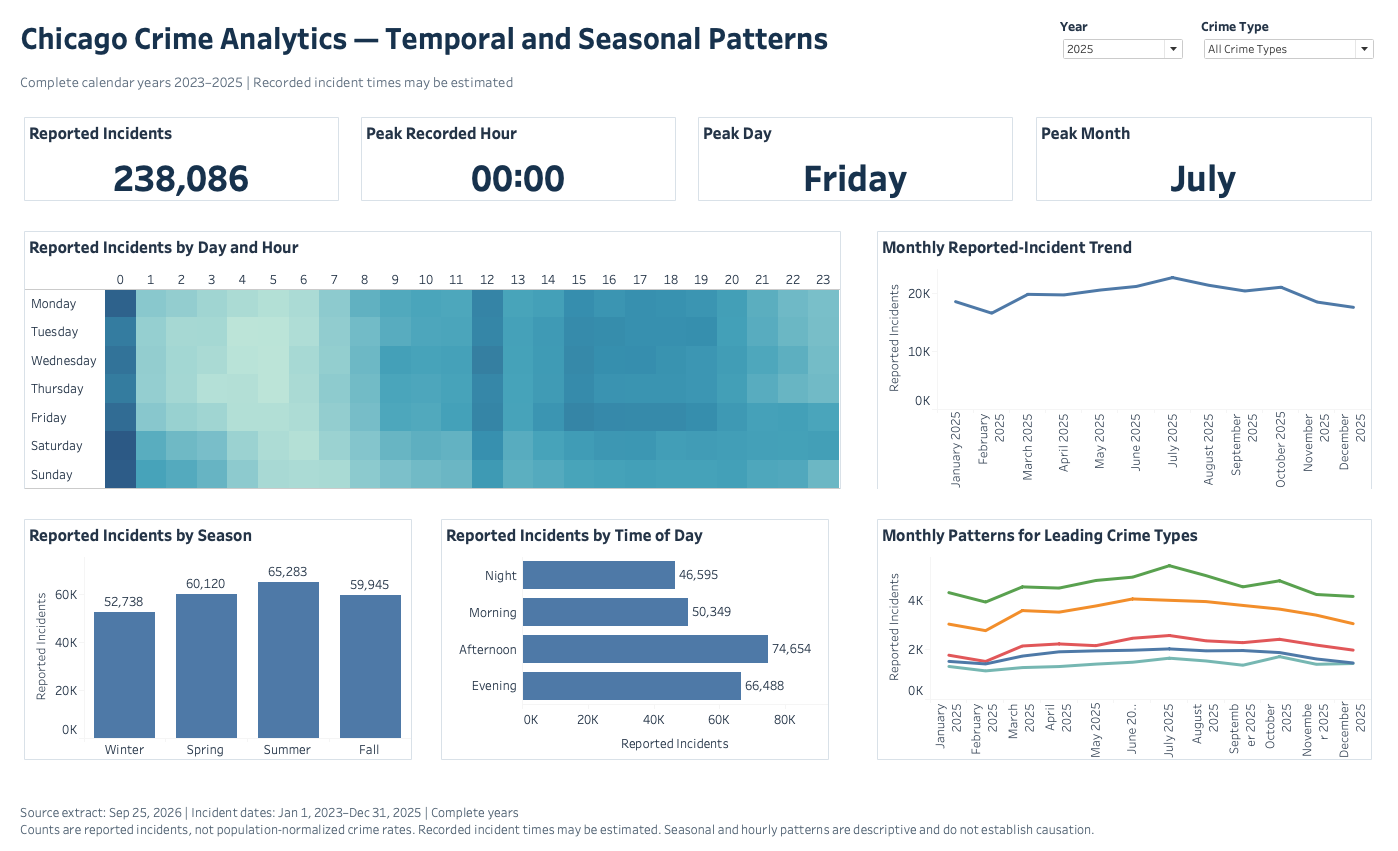

The dashboard page shown, as its layout file describes it:
{"tool":"tableau","page":{"name":"Temporal and Seasonal Patterns","canvas":[1360,850],"ordinal":2},"visuals":[{"type":"title","box":[24.5,10.2,979.2,61.2]},{"type":"parameter","param":"[Parameters].[pSelectedYear]","box":[1033.6,18.7,122.4,44.2]},{"type":"parameter","param":"[Parameters].[pCrimeType]","box":[1169.6,18.7,170,44.2]},{"type":"text","box":[24.5,66.3,979.2,30.6]},{"type":"worksheet","title":"P3 KPI Total Incidents","mark":"Text","box":[24.5,110.5,316.9,93.5]},{"type":"worksheet","title":"P3 KPI Peak Hour","mark":"Text","box":[350.9,110.5,316.9,93.5]},{"type":"worksheet","title":"P3 KPI Peak Day","mark":"Text","box":[677.3,110.5,316.9,93.5]},{"type":"worksheet","title":"P3 KPI Peak Month","mark":"Text","box":[1003.7,110.5,337.3,93.5]},{"type":"worksheet","title":"P3 Day-Hour Heatmap","mark":"Square","rows":["day_of_week"],"cols":["hour_of_day"],"box":[24.5,221,802.4,263.5]},{"type":"worksheet","title":"P3 Monthly Crime Trend","mark":"Line","rows":["reported_incident_count"],"cols":["month_start"],"box":[850,221,491,263.5]},{"type":"worksheet","title":"P3 Seasonal Comparison","mark":"Bar","rows":["reported_incident_count"],"cols":["season"],"box":[24.5,501.5,387.6,246.5]},{"type":"worksheet","title":"P3 Time-of-Day Distribution","mark":"Bar","rows":["time_of_day_display"],"cols":["reported_incident_count"],"box":[428.4,501.5,387.6,246.5]},{"type":"worksheet","title":"P3 Category Monthly Comparison","mark":"Line","rows":["reported_incident_count"],"cols":["month_start"],"box":[850,501.5,491,246.5]},{"type":"text","box":[24.5,765,1316.5,72.2]}]}

Visuals, with their boxes in screenshot pixels (x1, y1, x2, y2), scaled from the page's 1360x850 canvas onto the 1398x851 screenshot:
title: crop(25, 10, 1032, 71)
parameter: crop(1062, 19, 1188, 63)
parameter: crop(1202, 19, 1377, 63)
text: crop(25, 66, 1032, 97)
"P3 KPI Total Incidents" worksheet (Text marks): crop(25, 111, 351, 204)
"P3 KPI Peak Hour" worksheet (Text marks): crop(361, 111, 686, 204)
"P3 KPI Peak Day" worksheet (Text marks): crop(696, 111, 1022, 204)
"P3 KPI Peak Month" worksheet (Text marks): crop(1032, 111, 1378, 204)
"P3 Day-Hour Heatmap" worksheet (Square marks): crop(25, 221, 850, 485)
"P3 Monthly Crime Trend" worksheet (Line marks): crop(874, 221, 1378, 485)
"P3 Seasonal Comparison" worksheet (Bar marks): crop(25, 502, 424, 749)
"P3 Time-of-Day Distribution" worksheet (Bar marks): crop(440, 502, 839, 749)
"P3 Category Monthly Comparison" worksheet (Line marks): crop(874, 502, 1378, 749)
text: crop(25, 766, 1378, 838)
